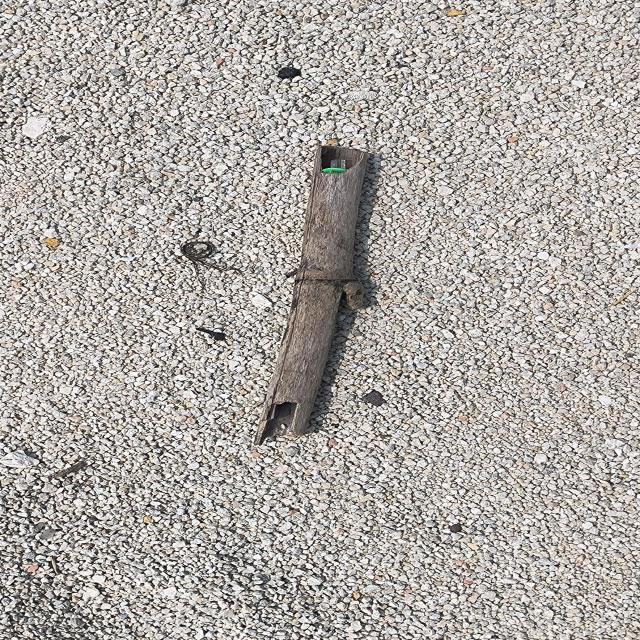litter: (254, 144, 372, 446)
